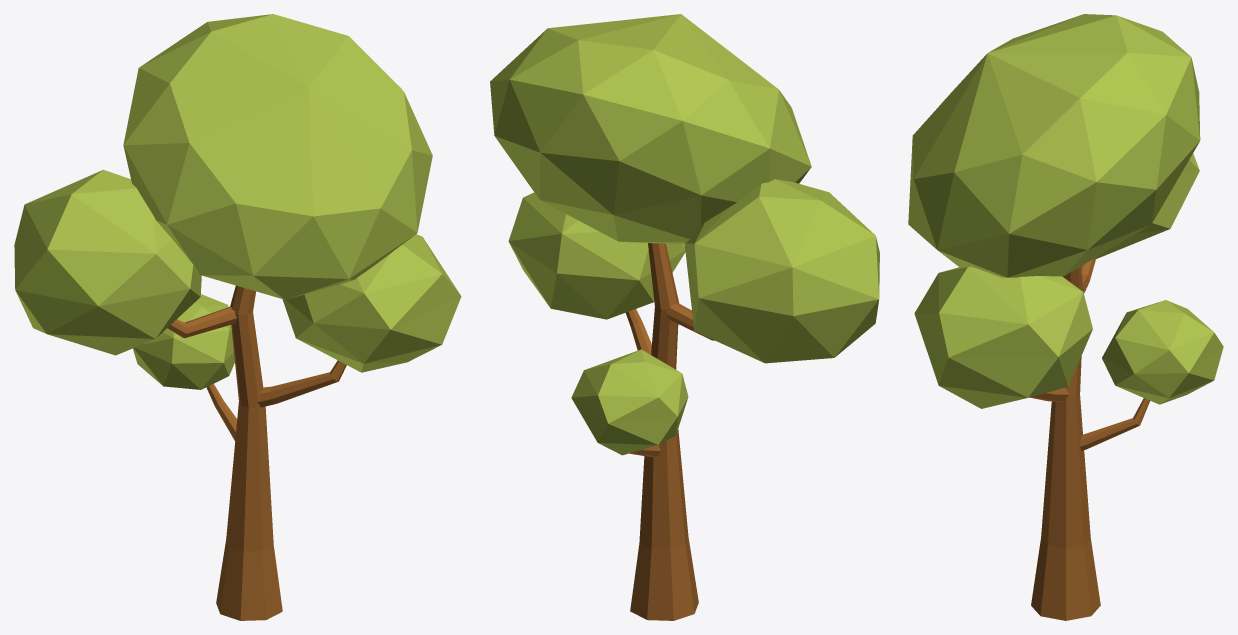
File: tree_02.fbx
3 renders of one model, left to right at view 1: azimuth 30°, elevation 25°; view 2: azimuth 150°, elevation 25°; view 3: azimuth 270°, elevation 25°, orthographic. The views are drawn at different scales.
Parts seen in each view (by area): view 1: tree_02; view 2: tree_02; view 3: tree_02.
Boxes of the visible parts, x1,y1,x2,y2 form: tree_02: [14, 14, 461, 620]; tree_02: [490, 14, 879, 620]; tree_02: [908, 14, 1223, 620].
Size of the model in its own units: 691 by 985 by 482.
